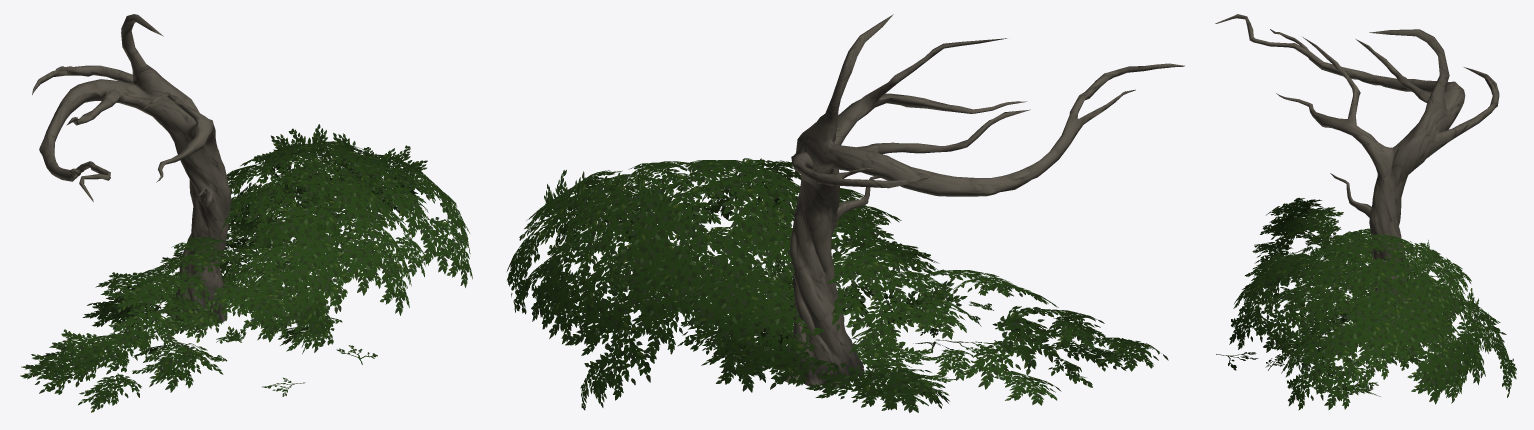
The model's file is Willow_3.glb.
The picture shows the model from 3 angles, left to right: view 1: azimuth 30°, elevation 25°; view 2: azimuth 150°, elevation 25°; view 3: azimuth 270°, elevation 25°; orthographic projection. The views are drawn at different scales.
Visible parts, largest first — view 1: Tree_0_BeechCanopyFoliage_LOD0, TreeRoomTree_0_LOD0; view 2: Tree_0_BeechCanopyFoliage_LOD0, TreeRoomTree_0_LOD0; view 3: Tree_0_BeechCanopyFoliage_LOD0, TreeRoomTree_0_LOD0.
Part boxes in pixels (x1,y1,x2,y2): Tree_0_BeechCanopyFoliage_LOD0: (20, 124, 472, 412); TreeRoomTree_0_LOD0: (32, 14, 231, 323); Tree_0_BeechCanopyFoliage_LOD0: (507, 158, 1168, 412); TreeRoomTree_0_LOD0: (785, 14, 1184, 388); Tree_0_BeechCanopyFoliage_LOD0: (1216, 197, 1516, 410); TreeRoomTree_0_LOD0: (1215, 14, 1499, 326).
Bounding box in the file's own units: 22.57 × 15.55 × 13.74.
Materials: 2 (2 with a texture image).
